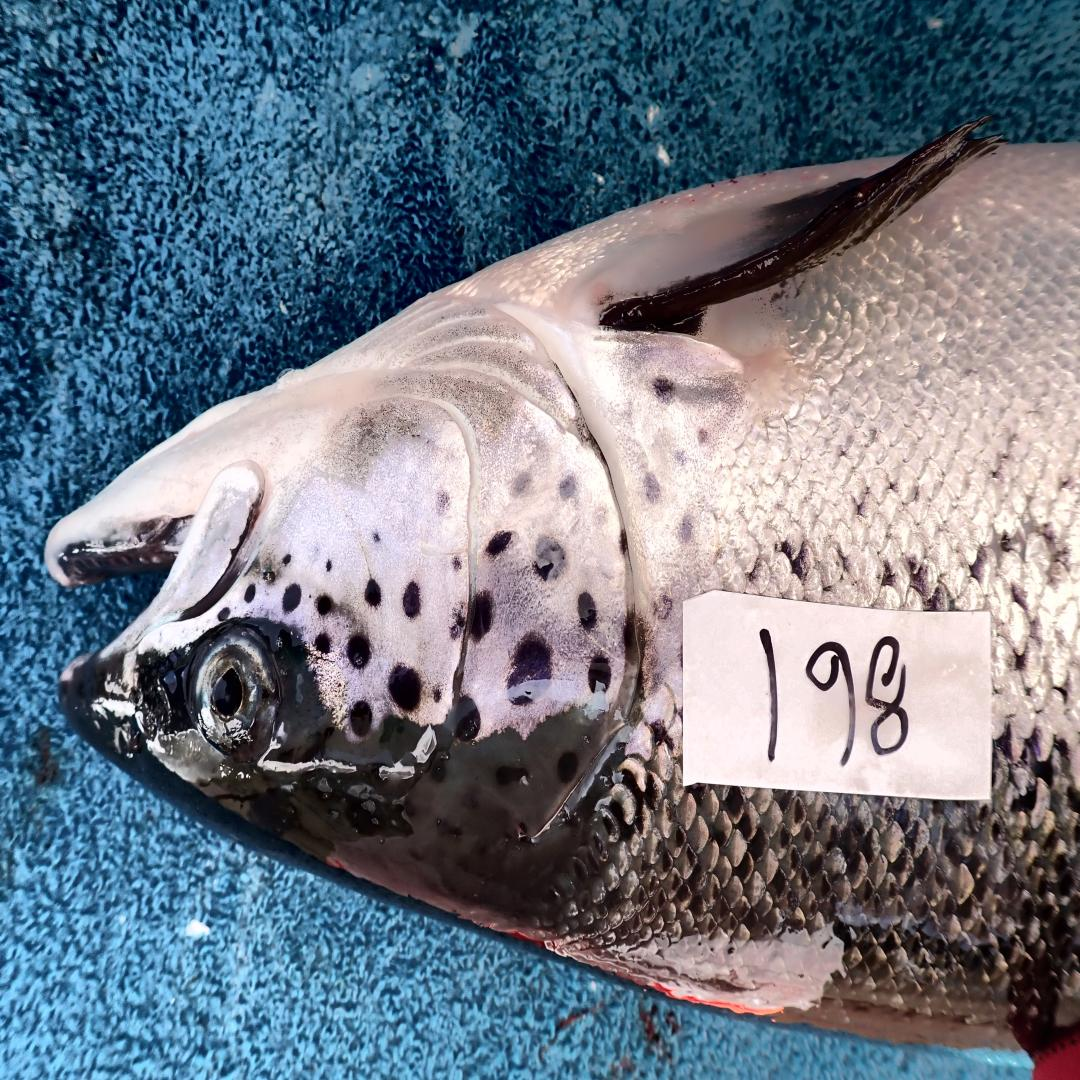spot: (508, 632, 554, 707), (388, 667, 422, 712), (534, 537, 565, 582), (450, 698, 481, 742), (470, 591, 494, 641), (486, 530, 517, 562), (589, 655, 612, 692), (346, 636, 371, 669), (350, 700, 371, 737), (578, 591, 597, 630), (446, 606, 466, 642), (617, 616, 636, 653), (403, 582, 420, 619), (511, 473, 533, 500), (283, 582, 302, 613), (365, 579, 382, 608), (560, 475, 576, 502), (316, 593, 333, 616), (314, 633, 331, 655), (436, 490, 450, 513), (619, 531, 629, 558), (245, 582, 255, 602), (263, 571, 277, 585), (217, 607, 230, 622), (432, 687, 442, 704), (453, 556, 462, 573), (372, 532, 381, 544), (283, 554, 291, 565), (326, 560, 332, 572)
